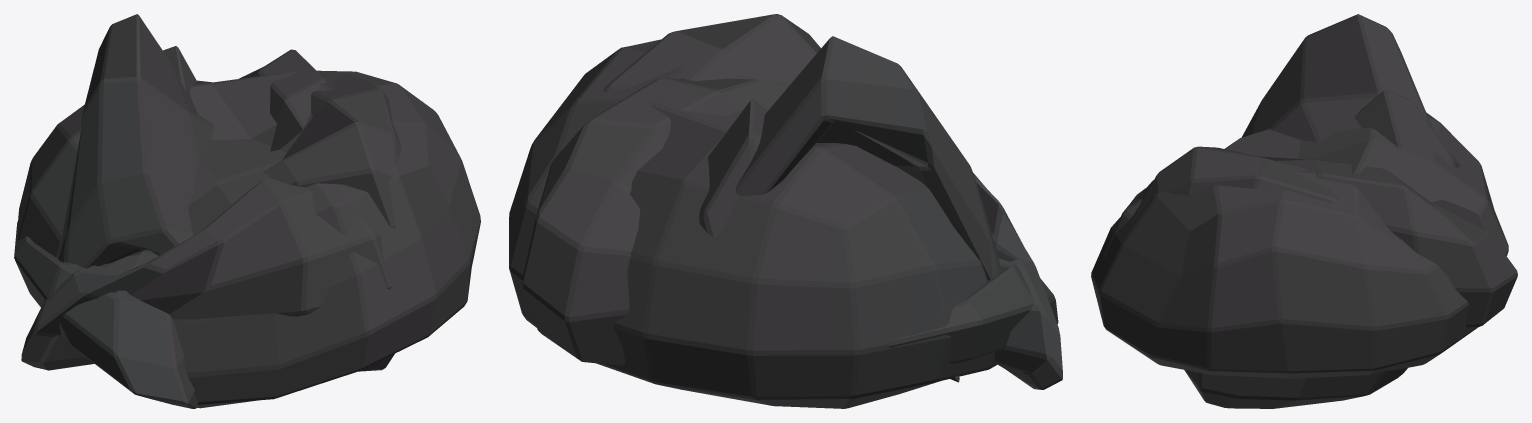
The model's file is stones.fbx.
The picture shows the model from 3 angles, left to right: view 1: azimuth 30°, elevation 25°; view 2: azimuth 150°, elevation 25°; view 3: azimuth 270°, elevation 25°; orthographic projection. The views are drawn at different scales.
Visible parts, largest first — view 1: Stone.001, Stone.004, Stone.005, Stone.002, Stone.003; view 2: Stone.001, Stone.004, Stone.005, Stone.002, Stone.003; view 3: Stone.001, Stone.005, Stone.004, Stone.002, Stone.003.
Part boxes in pixels (<box>): Stone.001: <box>17,70,480,408</box>; Stone.004: <box>21,49,392,370</box>; Stone.005: <box>58,14,394,371</box>; Stone.002: <box>14,74,401,408</box>; Stone.003: <box>163,46,197,94</box>; Stone.001: <box>509,39,997,408</box>; Stone.004: <box>522,77,1062,389</box>; Stone.005: <box>735,36,1000,280</box>; Stone.002: <box>603,14,1058,363</box>; Stone.003: <box>699,99,959,382</box>; Stone.001: <box>1091,112,1508,378</box>; Stone.005: <box>1184,14,1432,408</box>; Stone.004: <box>1103,156,1517,330</box>; Stone.002: <box>1131,146,1339,224</box>; Stone.003: <box>1354,90,1460,167</box>.
Size of the model in its own units: 1.71 by 1.29 by 1.58.
